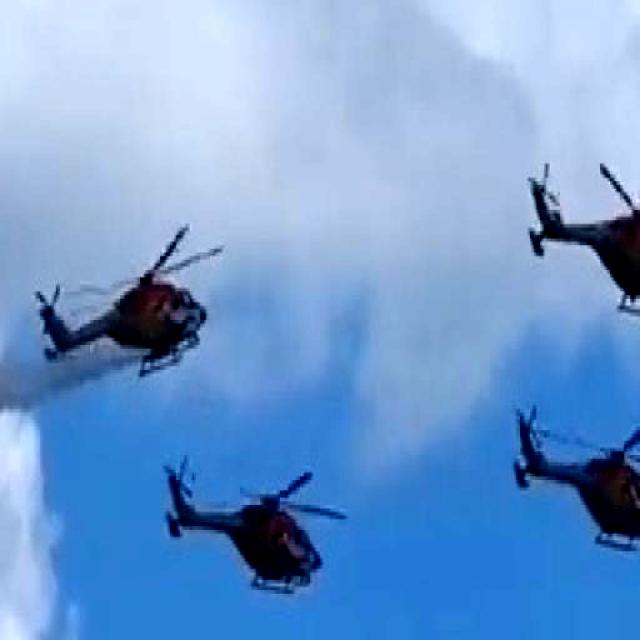drone: (40, 220, 238, 382), (159, 439, 348, 602), (508, 389, 640, 556), (524, 156, 640, 325)
